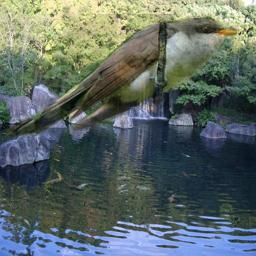Cuckoo: (1, 14, 237, 138)
